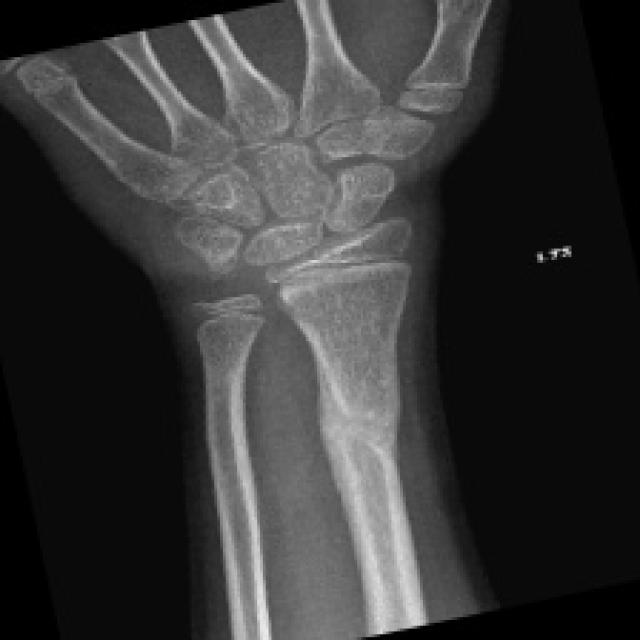fracture: (286, 361, 441, 519)
